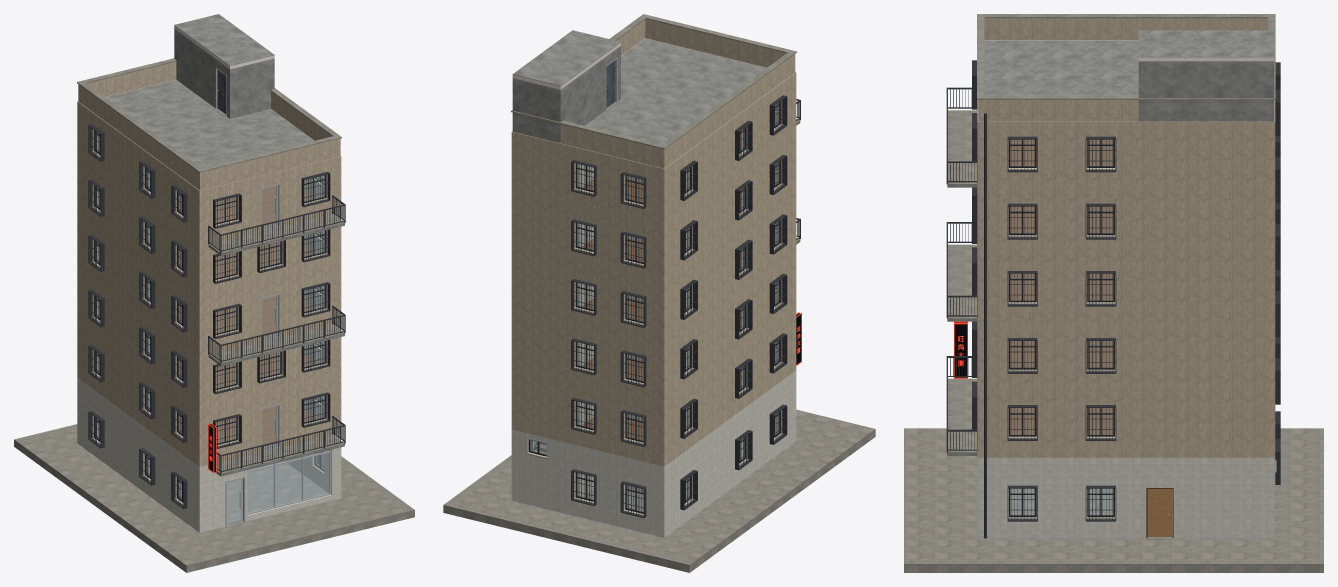
File: b_hk_tonglau.gltf
3 views of the same model, side by side, from view 1: azimuth 30°, elevation 25°; view 2: azimuth 150°, elevation 25°; view 3: azimuth 270°, elevation 25° (orthographic). The views are drawn at different scales.
Visible parts, largest first — view 1: S_hk_tonglau, D_hk_tonglau_F1_S1_Door0, D_hk_tonglau_F4_S1_Door0, D_hk_tonglau_F2_S1_Door0, D_hk_tonglau_F6_S1_Door0; view 2: S_hk_tonglau; view 3: S_hk_tonglau, D_hk_tonglau_F1_E2_Door0.
Boxes of the visible parts, left/top/right/bottom form: S_hk_tonglau: left=14, top=14, right=414, bottom=572; D_hk_tonglau_F1_S1_Door0: left=226, top=478, right=242, bottom=524; D_hk_tonglau_F4_S1_Door0: left=262, top=295, right=277, bottom=339; D_hk_tonglau_F2_S1_Door0: left=262, top=405, right=277, bottom=449; D_hk_tonglau_F6_S1_Door0: left=262, top=185, right=277, bottom=228; S_hk_tonglau: left=443, top=14, right=875, bottom=572; S_hk_tonglau: left=904, top=14, right=1323, bottom=572; D_hk_tonglau_F1_E2_Door0: left=1147, top=489, right=1171, bottom=536.
Bounding box in the file's own units: 13 × 21.9 × 17.
Materials: 23 (11 with a texture image).
